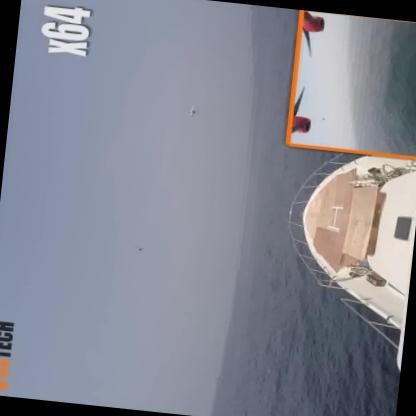drone: (185, 103, 202, 117)
